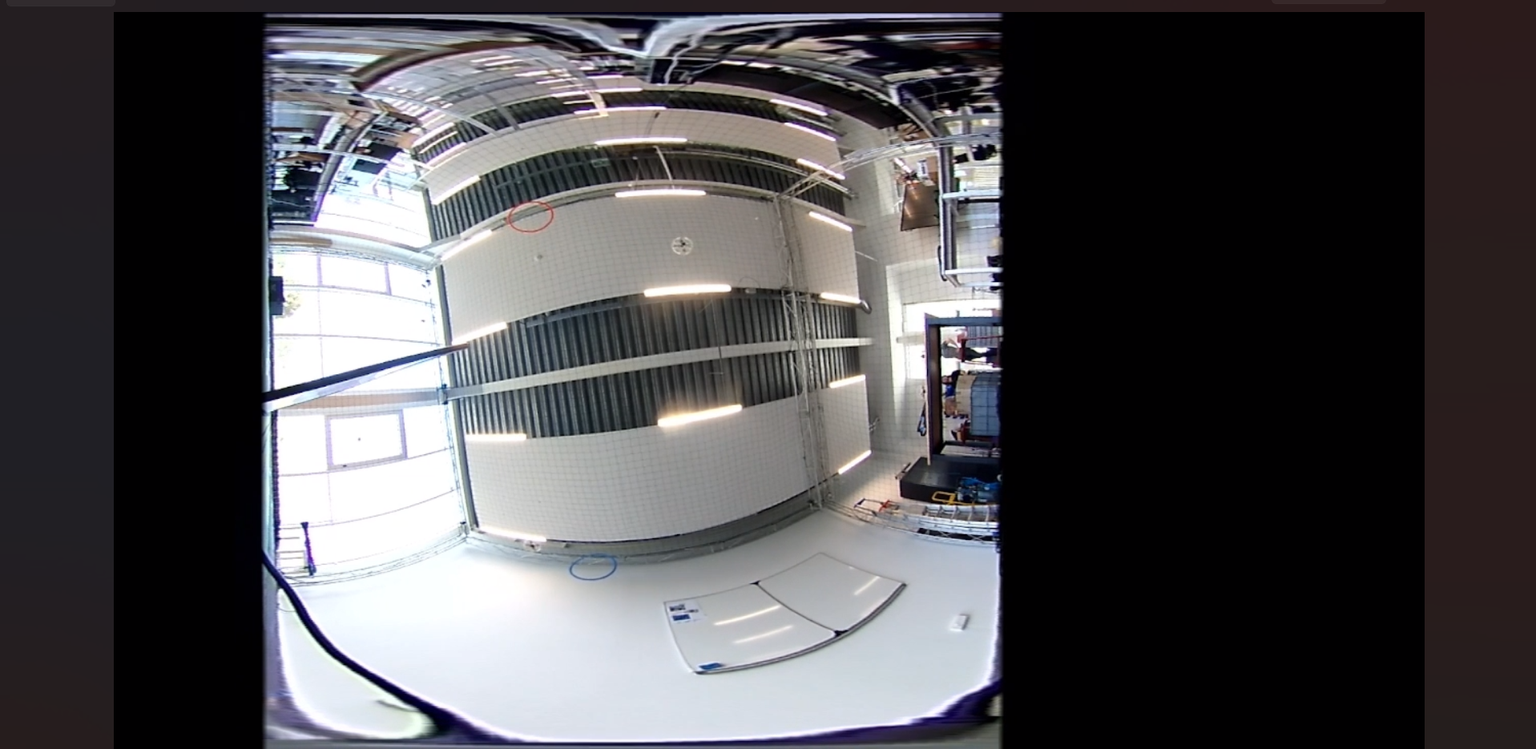Drone: (670, 236, 694, 257), (523, 538, 542, 553)
